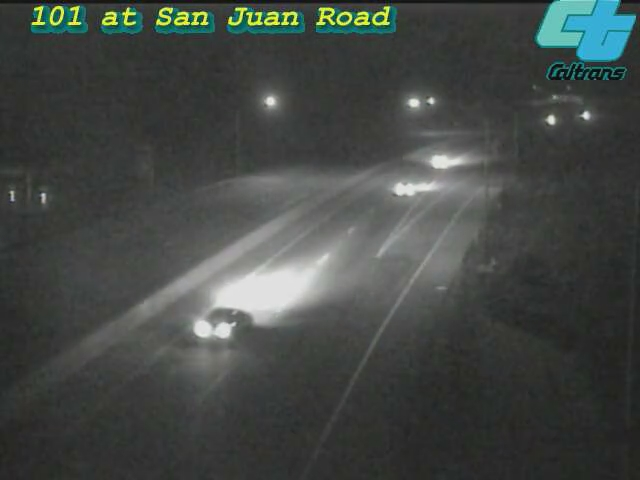vehicle: (168, 271, 278, 381), (398, 121, 478, 201), (365, 150, 445, 230), (523, 94, 573, 144), (562, 91, 612, 141)
